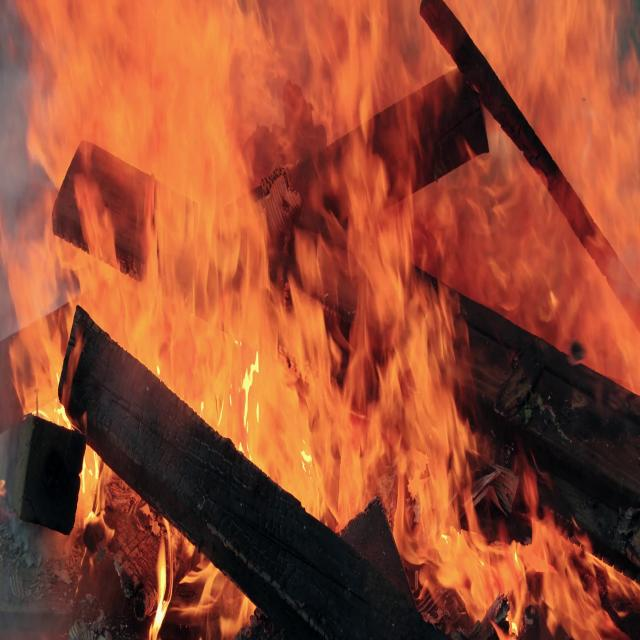Fire: (16, 0, 640, 640), (518, 0, 640, 253)
